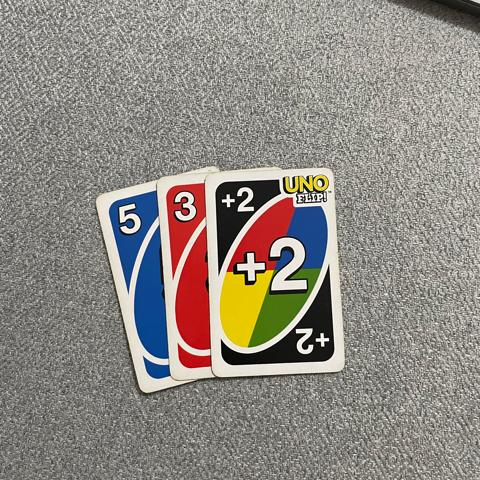lblue-5: (107, 197, 150, 243)
lcolor2-50: (214, 177, 258, 216)
lred-3: (166, 184, 200, 234)
